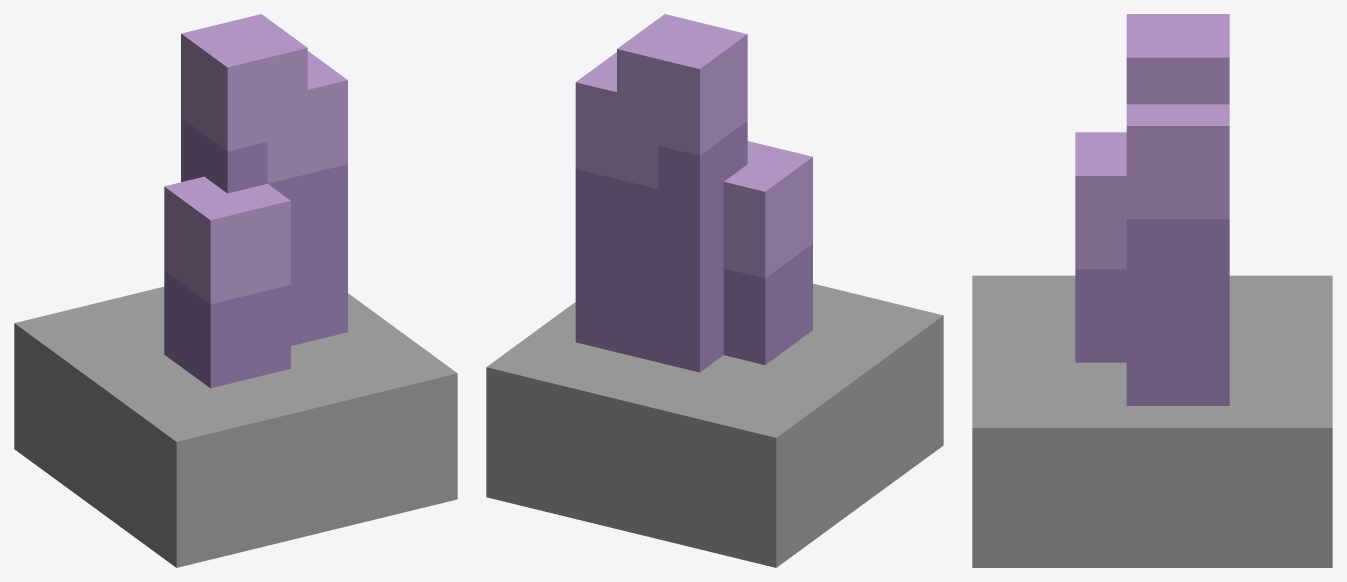
Rendered from geoda_04.glb.
3 views of the same model, side by side, from view 1: azimuth 30°, elevation 25°; view 2: azimuth 150°, elevation 25°; view 3: azimuth 270°, elevation 25° (orthographic). The views are drawn at different scales.
Visible parts, largest first — view 1: geoda_04; view 2: geoda_04; view 3: geoda_04.
Boxes of the visible parts, x1=… form: geoda_04: x1=14, y1=14, x2=457, y2=567; geoda_04: x1=486, y1=14, x2=943, y2=567; geoda_04: x1=972, y1=14, x2=1332, y2=567.
Bounding box in the file's own units: 0.7 × 1 × 0.7.
